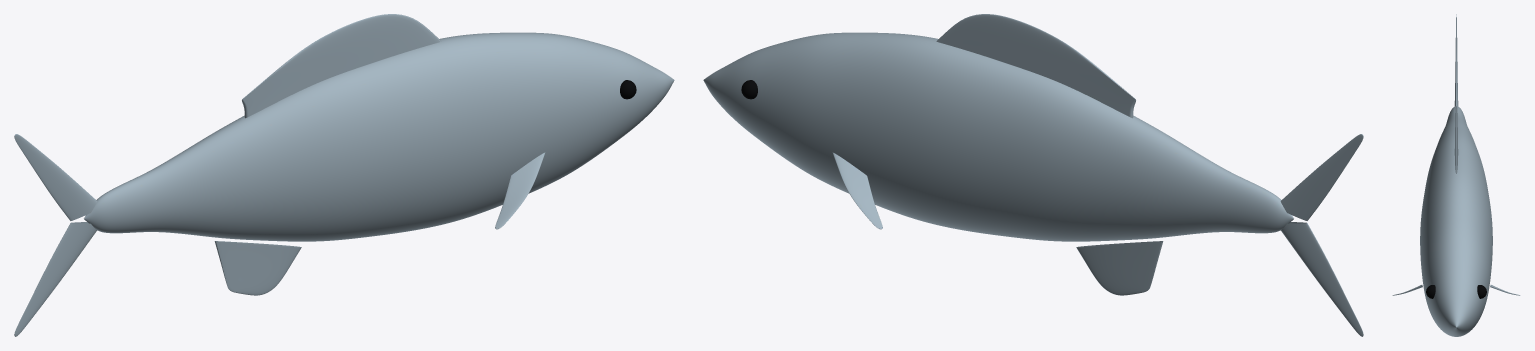
File: fishBladder.glb
3 renders of one model, left to right at view 1: azimuth 30°, elevation 25°; view 2: azimuth 150°, elevation 25°; view 3: azimuth 270°, elevation 25°, orthographic. The views are drawn at different scales.
Parts seen in each view (by area): view 1: skin; view 2: skin; view 3: skin.
Part boxes in pixels (<box>): skin: <box>14,14,674,336</box>; skin: <box>703,14,1363,336</box>; skin: <box>1392,14,1520,336</box>.
Size of the model in its own units: 3.93 by 1.43 by 0.9044.
Materials: 2 (1 with a texture image).
